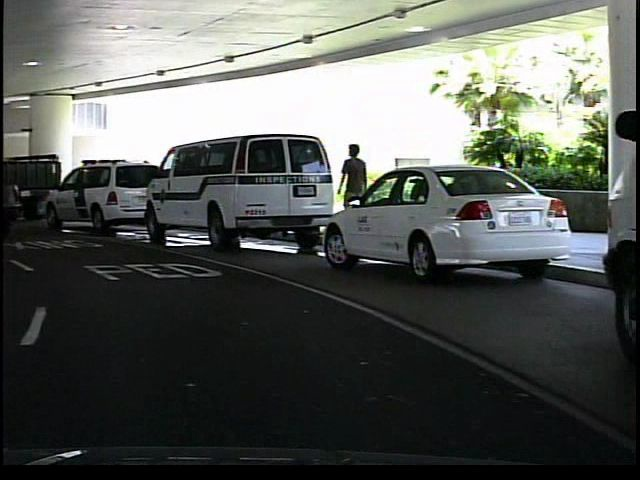person: (333, 141, 368, 240)
